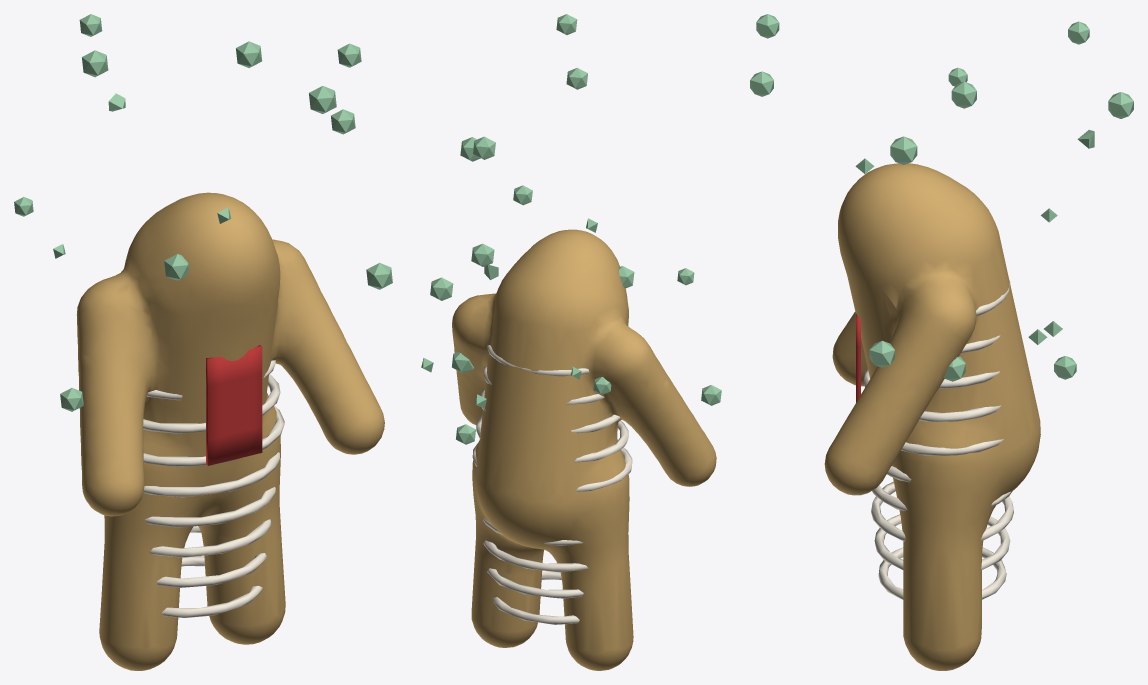
The model's file is immortel.glb.
3 views of the same model, side by side, from view 1: azimuth 30°, elevation 25°; view 2: azimuth 150°, elevation 25°; view 3: azimuth 270°, elevation 25° (orthographic). The views are drawn at different scales.
Parts seen in each view (by area): view 1: sand, white, team, jade; view 2: sand, white, jade; view 3: sand, white, jade.
Part boxes in pixels (bbox=[...]): sand: bbox=[76, 192, 384, 670]; white: bbox=[143, 360, 284, 617]; team: bbox=[206, 345, 262, 465]; jade: bbox=[14, 14, 392, 411]; sand: bbox=[452, 229, 716, 670]; white: bbox=[472, 345, 632, 624]; jade: bbox=[421, 14, 721, 444]; sand: bbox=[824, 163, 1040, 670]; white: bbox=[863, 280, 1013, 599]; jade: bbox=[750, 14, 1133, 381].
Size of the model in its own units: 0.9512 by 1.77 by 0.9283.
